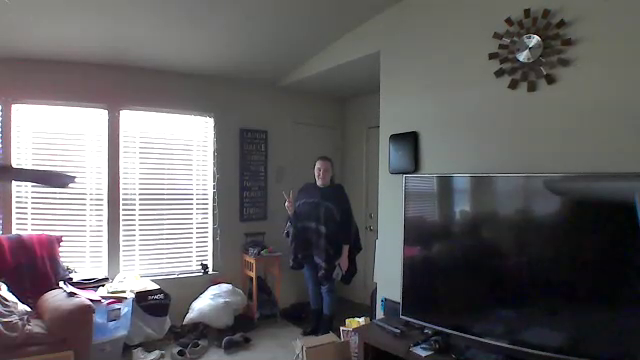peace: (278, 186, 302, 219)
